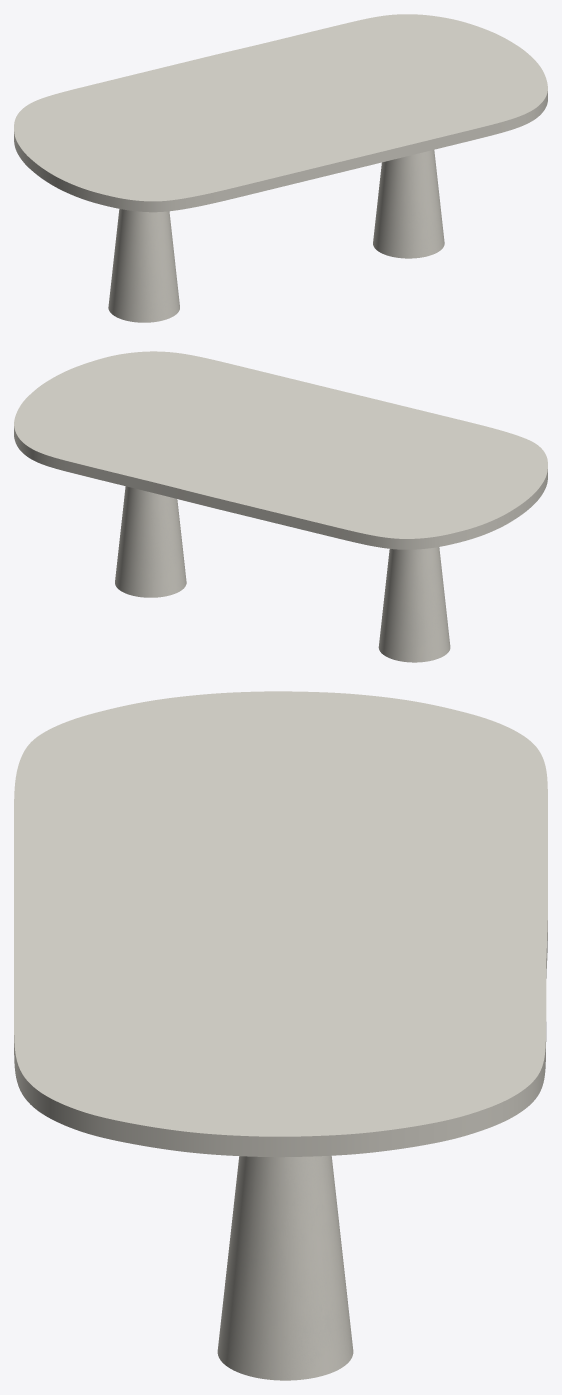
Rendered from pale_oval_standard_pebble.glb.
3 renders of one model, top to bottom at view 1: azimuth 30°, elevation 25°; view 2: azimuth 150°, elevation 25°; view 3: azimuth 270°, elevation 25°, orthographic. The views are drawn at different scales.
Parts seen in each view (by area): view 1: standard_oval, pebble; view 2: standard_oval, pebble; view 3: standard_oval, pebble.
Boxes of the visible parts, x1,y1,x2,y2 form: standard_oval: (14,14,547,212); pebble: (108,150,444,322); standard_oval: (14,351,547,549); pebble: (115,486,450,662); standard_oval: (14,691,547,1157); pebble: (217,1155,353,1380).
Size of the model in its own units: 7.5 by 2.5 by 3.8.
Materials: 1 (1 with a texture image).
